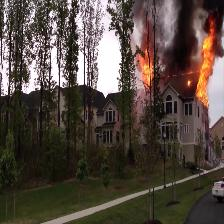fire: (196, 32, 212, 98), (140, 49, 153, 86)
smoke: (164, 0, 191, 70), (204, 1, 222, 18)
